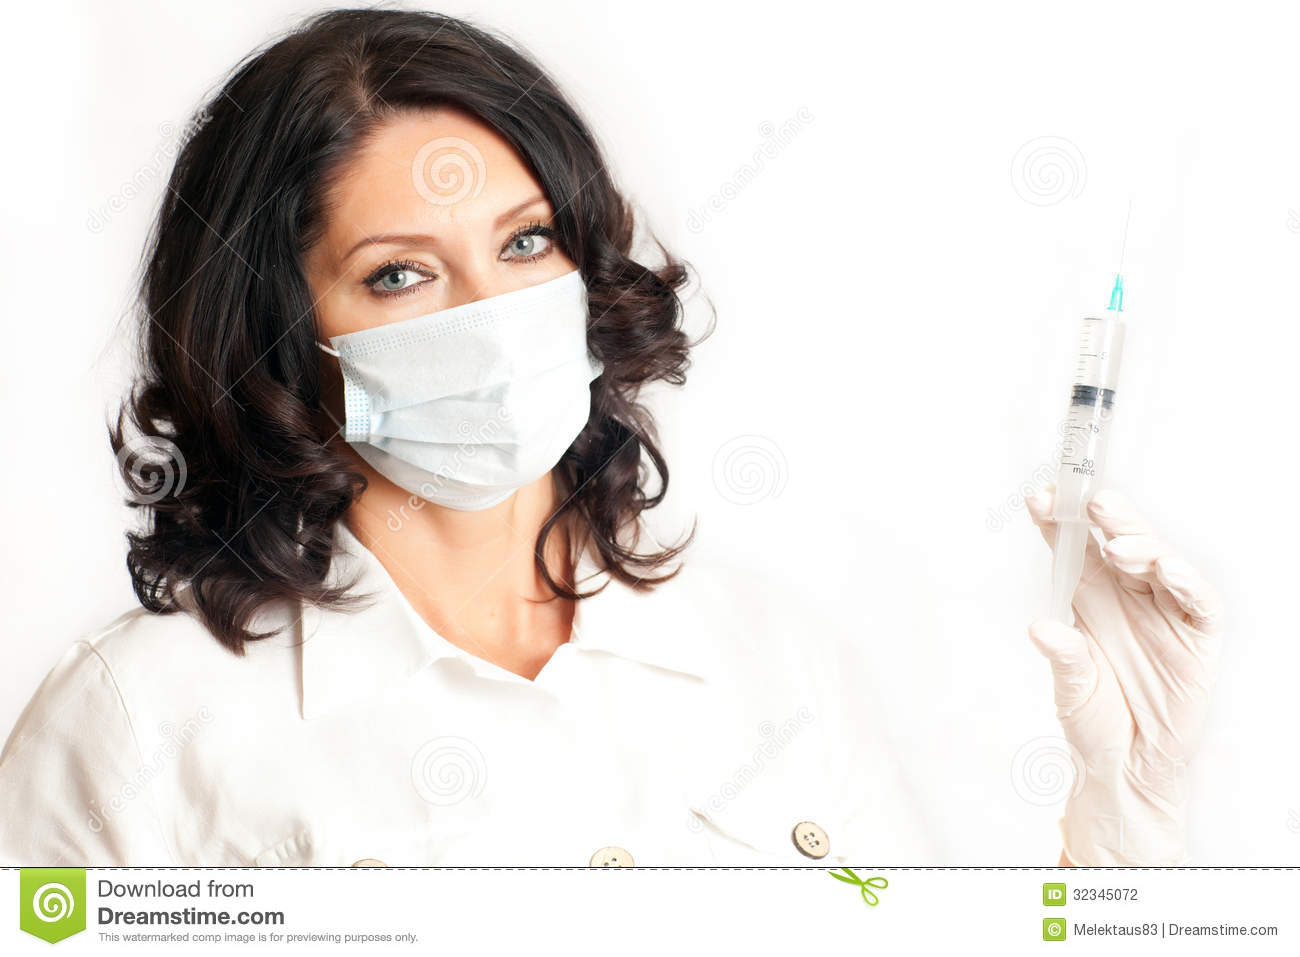mask: (328, 282, 628, 510)
